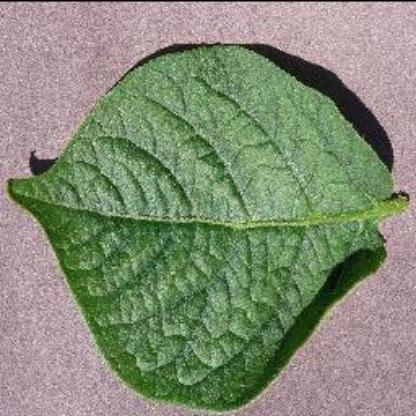Healthy-plant: (11, 19, 408, 411)
